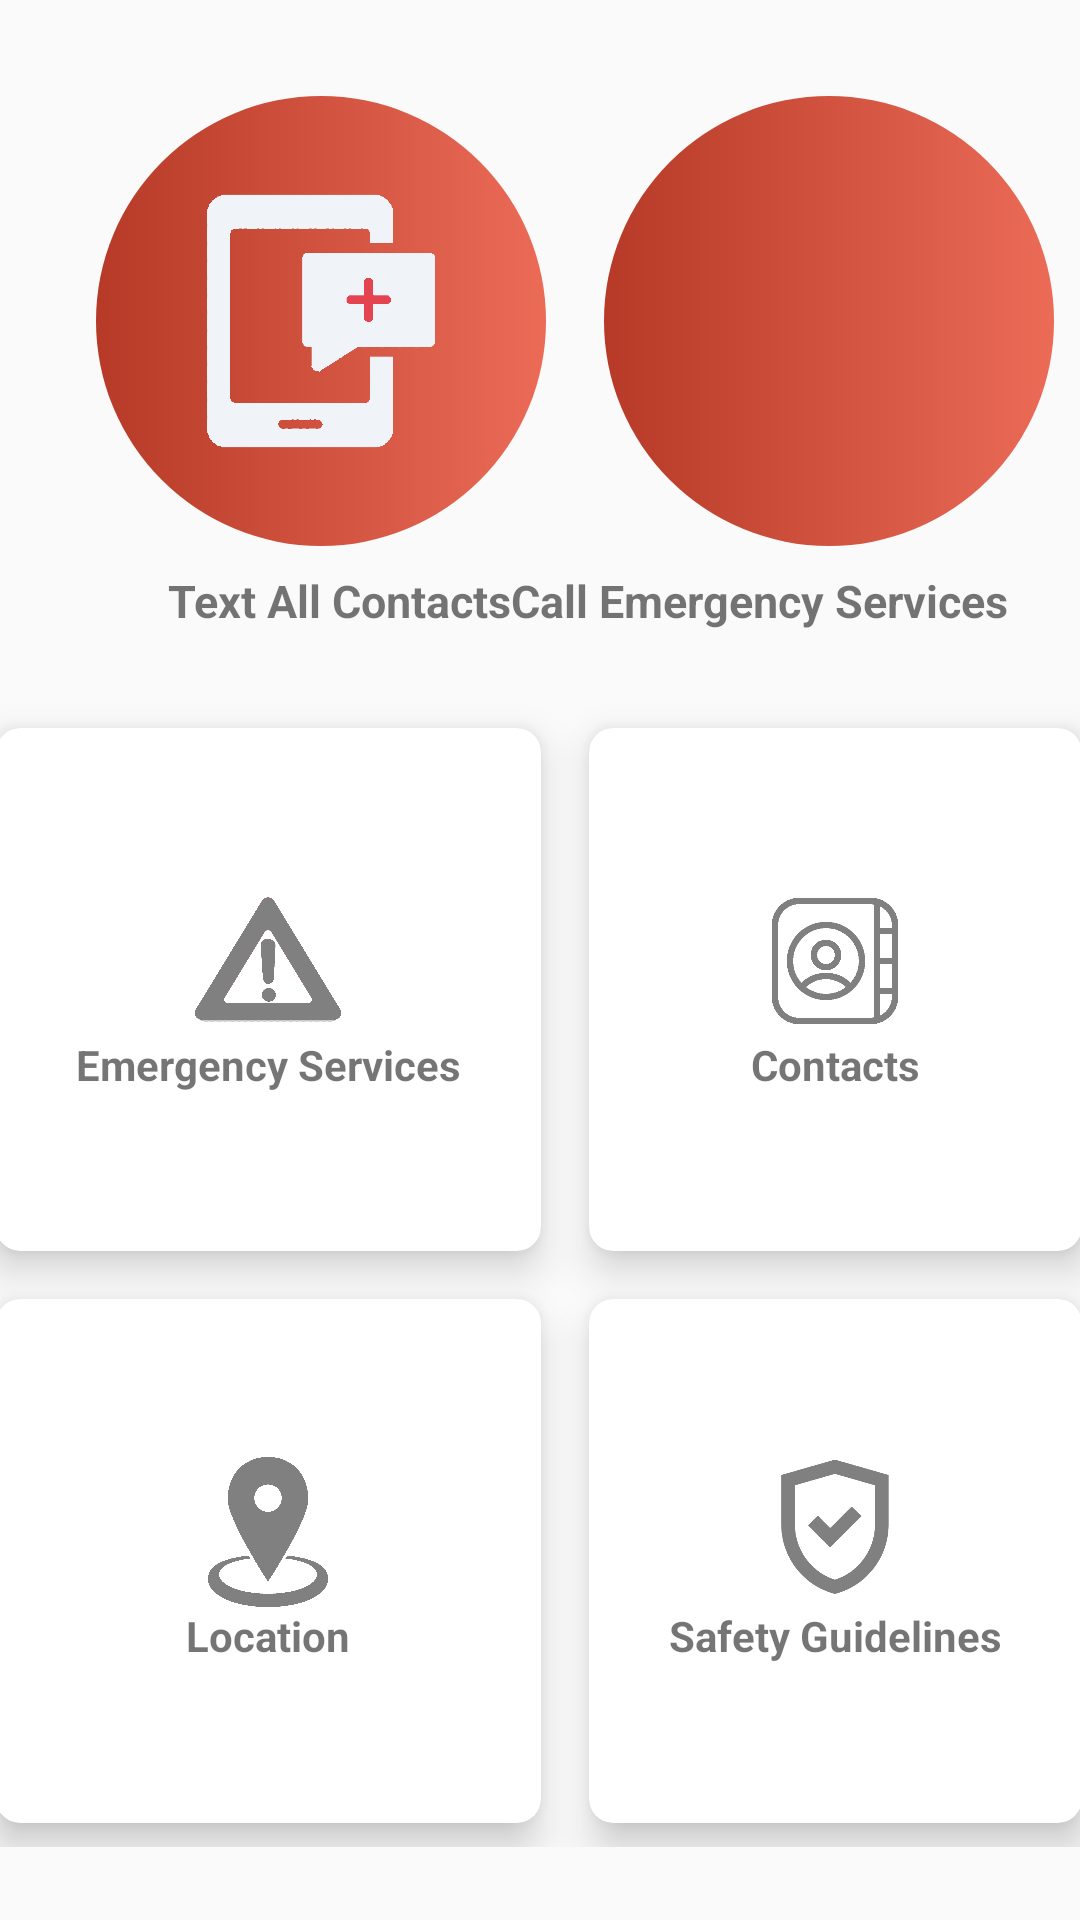

Screen size 1080*1920. Icon name, then its center in pixels as point (x, y):
emergency guidelines: point (268, 959)
